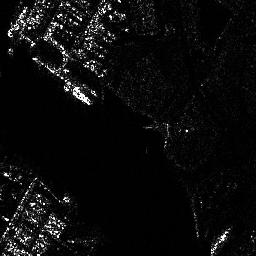ship: (209, 224, 234, 256), (62, 83, 92, 106)
